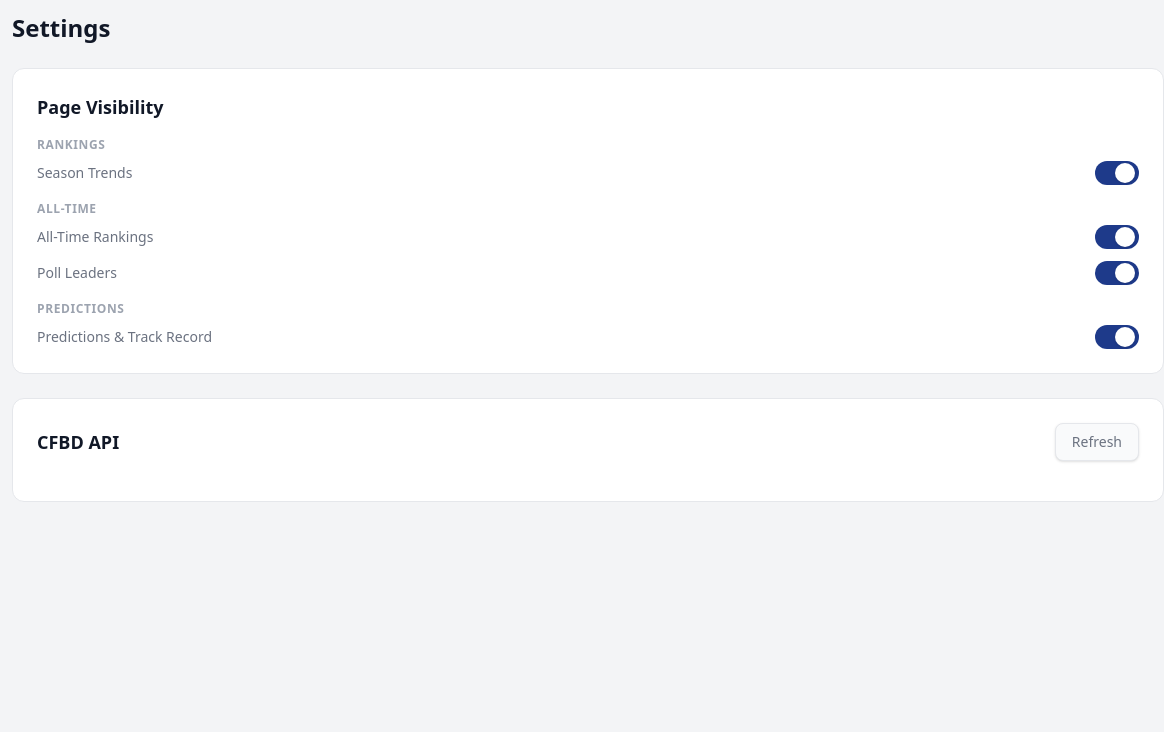
Test: SettingsPage › shows error feedback when visibility update fails
The width and height of the screenshot is (1164, 732).
Step 1. Click the switch named "Poll Leaders" in the row of "Poll Leaders" → x=1117, y=273, box [1095,261,1139,285]
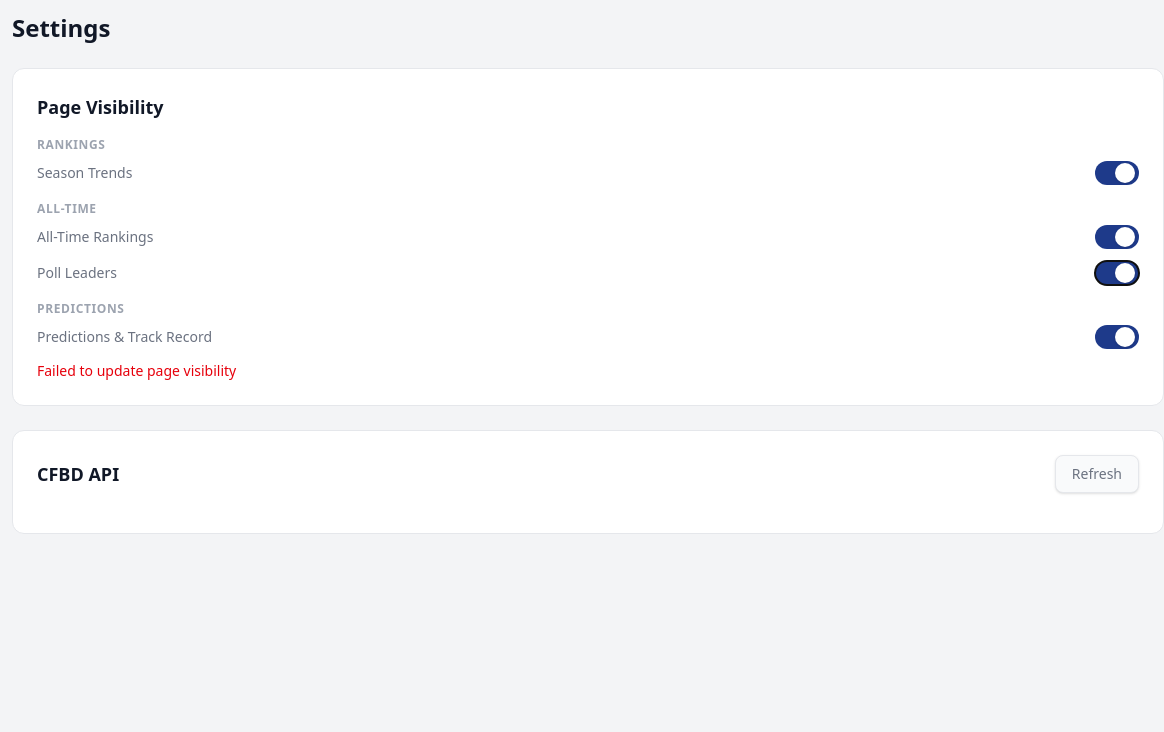
Expected: the text "Failed to update page visibility" is shown, [37,361,236,380]
